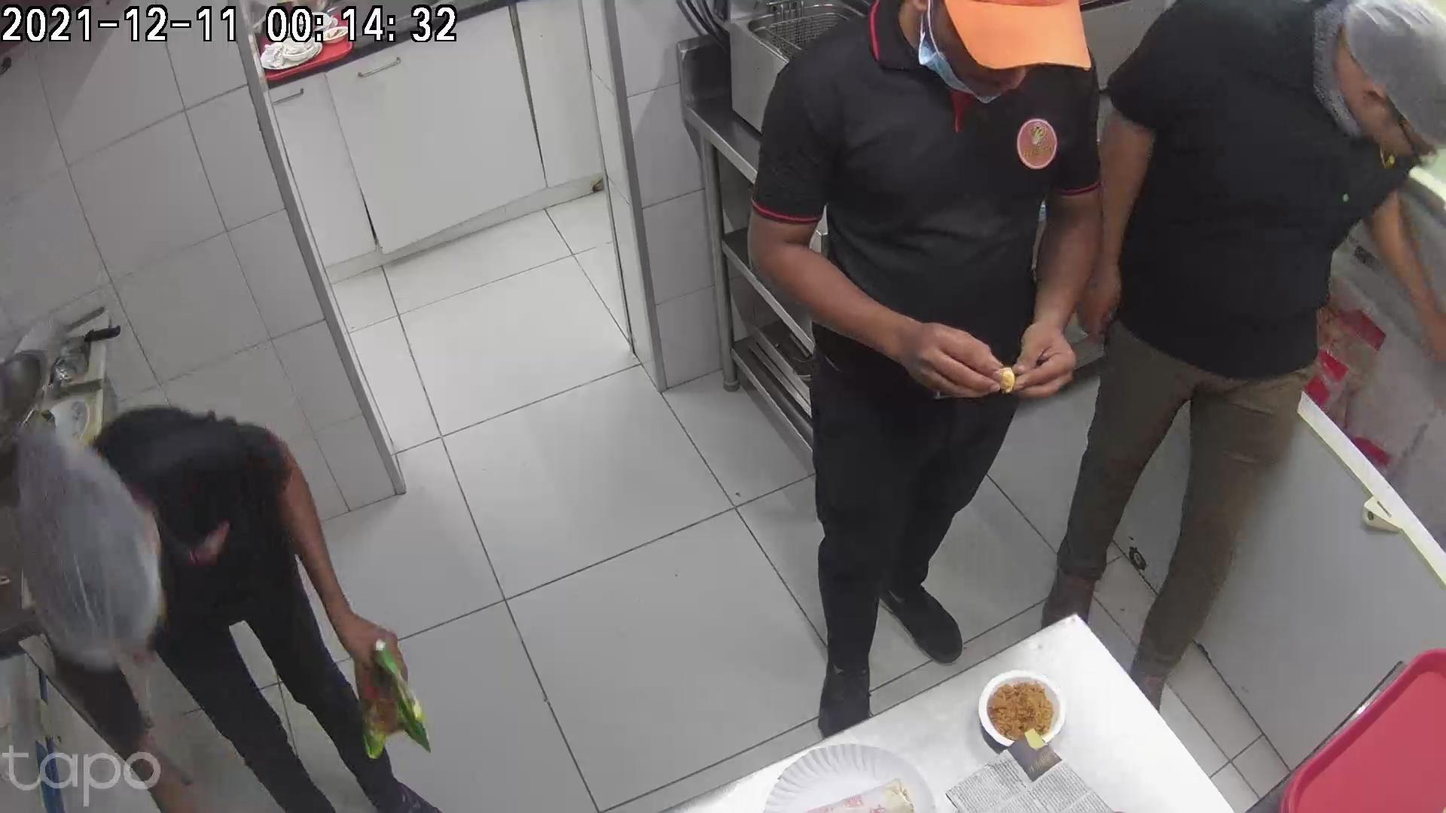no_gloves: (647, 288, 806, 384)
